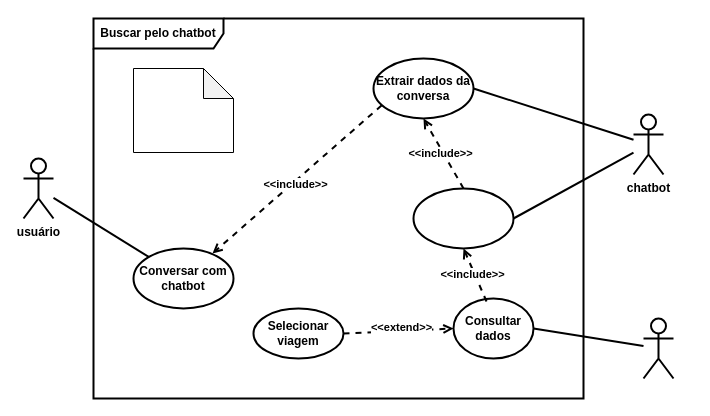
The diagram is 710 pixels wide and 416 high, and some of its shapes have lost their labels. The shapes that lost their labels are listed below. From the top down, each one's box as (x1, y1, x2, y2) in pixels, then its label:
(132, 68, 234, 152): Usuário deve estar logado
(412, 187, 514, 249): Descobrir preferências
(642, 317, 674, 379): API viagens
